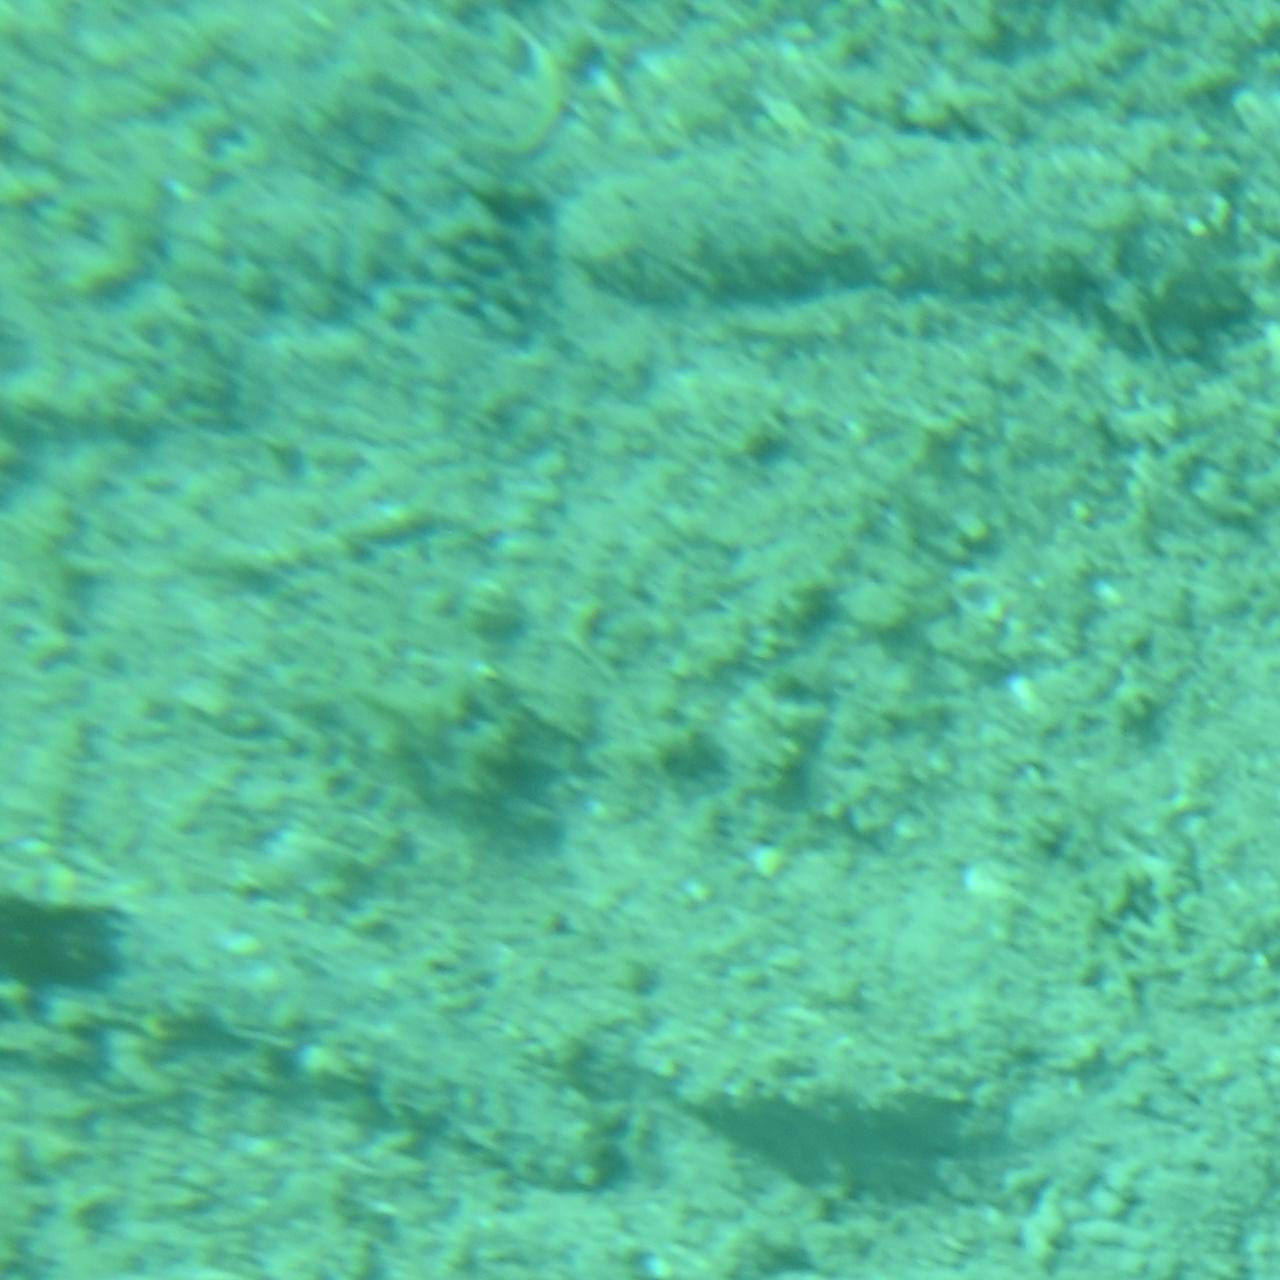Holothuria tubulosa: (93, 877, 635, 1225), (553, 108, 1280, 353)
